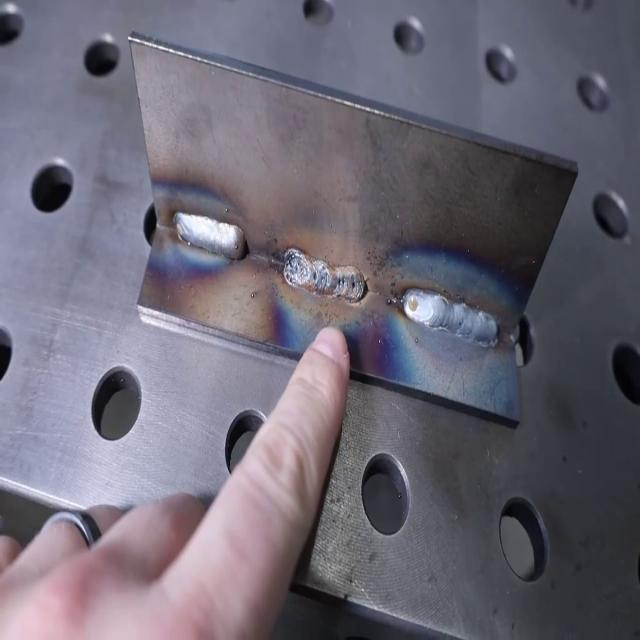Bad Welding: (282, 239, 364, 301)
Good Welding: (400, 278, 498, 348), (174, 210, 246, 262)
Porosity: (336, 274, 358, 290), (311, 268, 319, 282)
